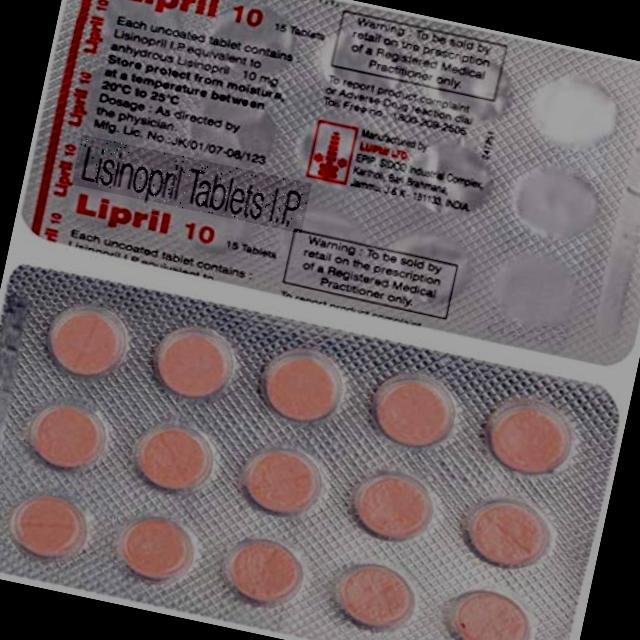Medicine-name: (72, 135, 312, 234)
